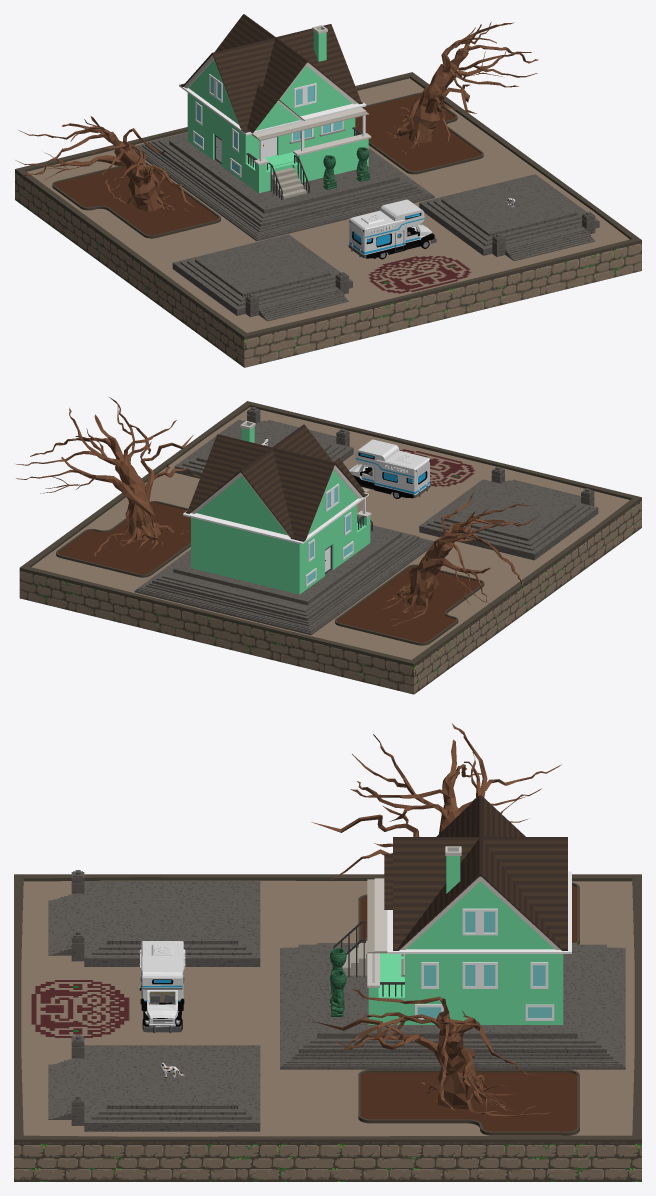
3 views of the same model, one above another, from view 1: azimuth 30°, elevation 25°; view 2: azimuth 150°, elevation 25°; view 3: azimuth 270°, elevation 25° (orthographic). The views are drawn at different scales.
Visible parts, largest first — view 1: Cube.011, Cube.352, VEHICLES_CAMPER; view 2: Cube.011, Cube.352, VEHICLES_CAMPER; view 3: Cube.011, Cube.352, VEHICLES_CAMPER.
Boxes of the visible parts, bbox=[...] form: Cube.011: bbox=[15, 22, 641, 367]; Cube.352: bbox=[179, 14, 371, 199]; VEHICLES_CAMPER: bbox=[348, 199, 436, 259]; Cube.011: bbox=[14, 397, 641, 694]; Cube.352: bbox=[183, 421, 372, 594]; VEHICLES_CAMPER: bbox=[349, 439, 430, 498]; Cube.011: bbox=[14, 723, 641, 1181]; Cube.352: bbox=[333, 795, 571, 1024]; VEHICLES_CAMPER: bbox=[139, 941, 185, 1033].
Size of the model in its own units: 5099 by 1610 by 4000.
Materials: 32 (6 with a texture image).
